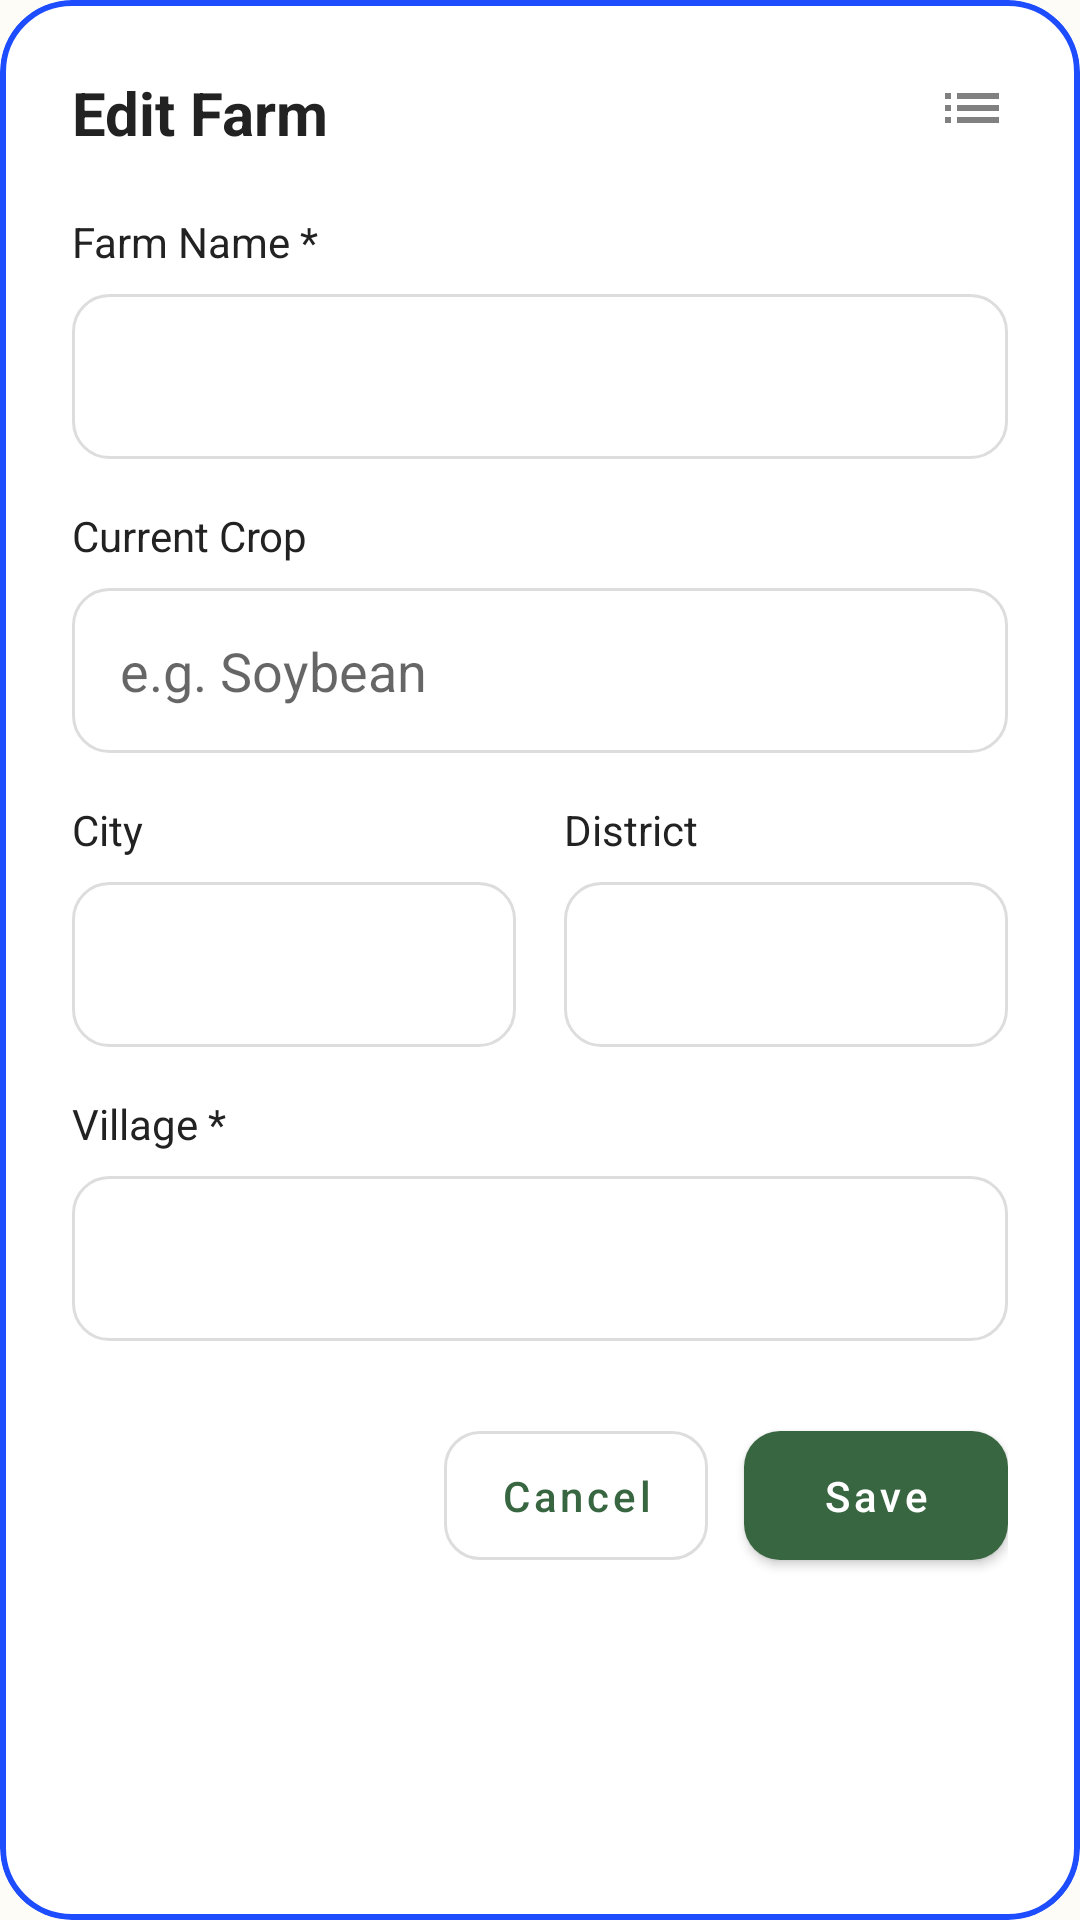

Locate icon controls on the screen. Image size 1080×1920, boxes as (x1, y1, x2, y2).
list: (945, 93, 999, 123)
